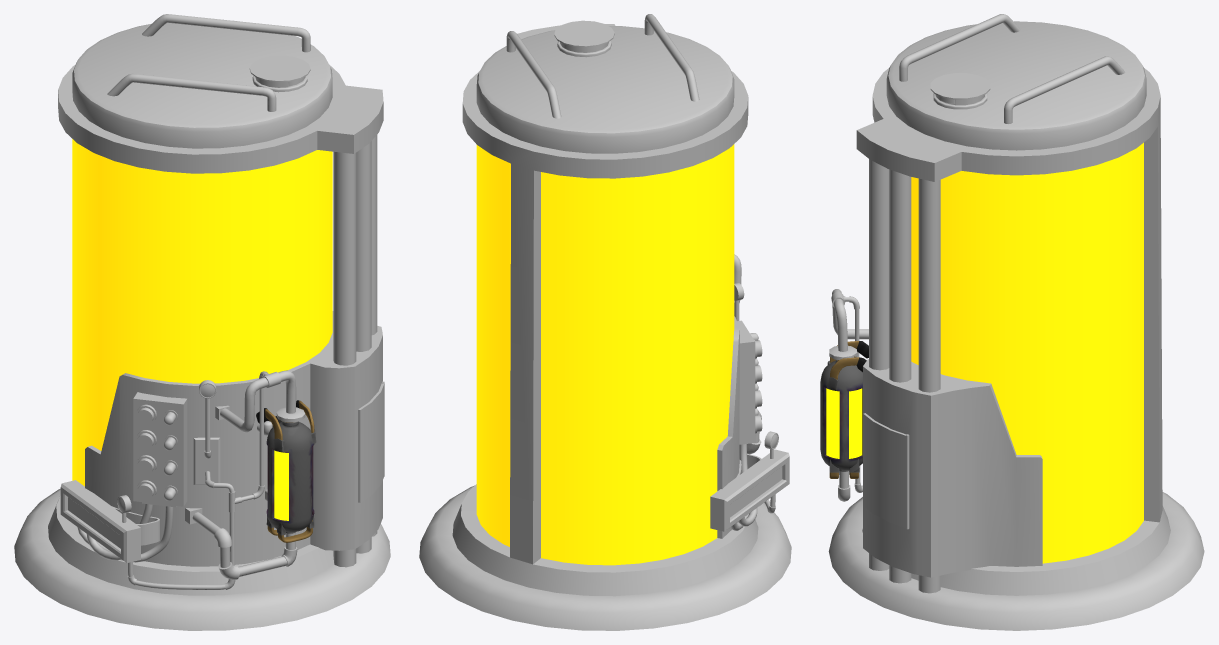
File: nexus.fbx
3 views of the same model, side by side, from view 1: azimuth 30°, elevation 25°; view 2: azimuth 150°, elevation 25°; view 3: azimuth 270°, elevation 25° (orthographic).
Visible parts, largest first — view 1: Cylinder.002; view 2: Cylinder.002; view 3: Cylinder.002.
Boxes of the visible parts, bbox=[...] form: Cylinder.002: bbox=[14, 14, 390, 630]; Cylinder.002: bbox=[419, 14, 791, 630]; Cylinder.002: bbox=[820, 14, 1204, 630].
Size of the model in its own units: 289 by 424 by 295.
